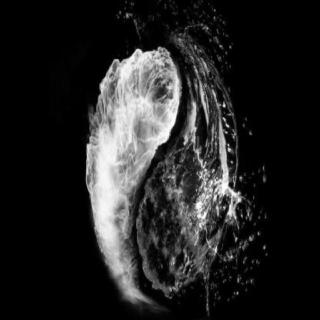Fire: (83, 40, 183, 312)
